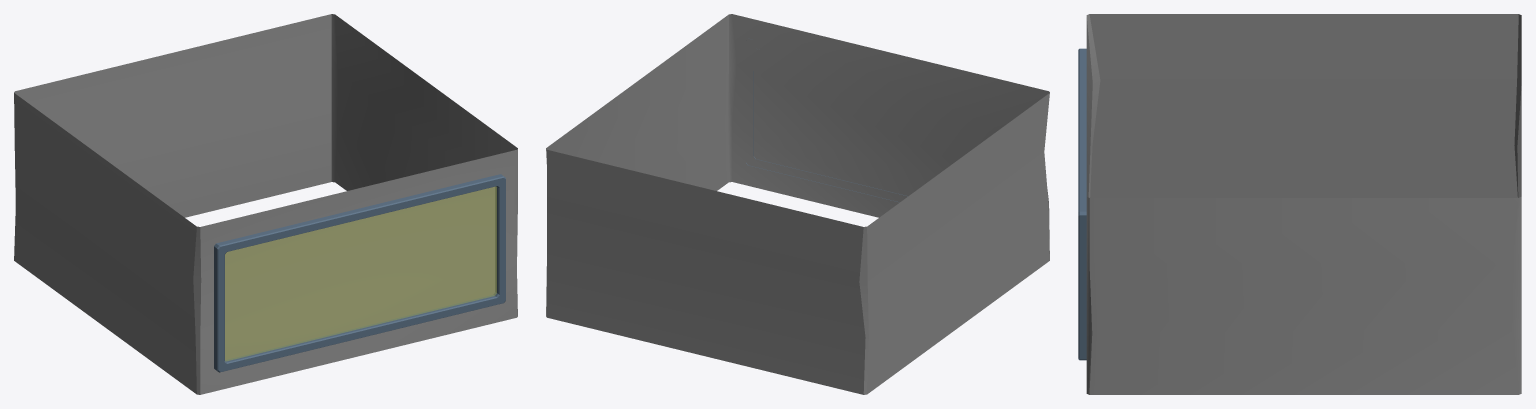
Rendered from Blockout_Building_Large_01.FBX.
The picture shows the model from 3 angles, left to right: view 1: azimuth 30°, elevation 25°; view 2: azimuth 150°, elevation 25°; view 3: azimuth 270°, elevation 25°; orthographic projection. The views are drawn at different scales.
Parts seen in each view (by area): view 1: Blockout_Building_Large_01; view 2: Blockout_Building_Large_01; view 3: Blockout_Building_Large_01.
Boxes of the visible parts, x1,y1,x2,y2 form: Blockout_Building_Large_01: (14, 14, 517, 394); Blockout_Building_Large_01: (546, 14, 1049, 394); Blockout_Building_Large_01: (1078, 14, 1521, 394).
Bounding box in the file's own units: 1524 × 762 × 1553.
